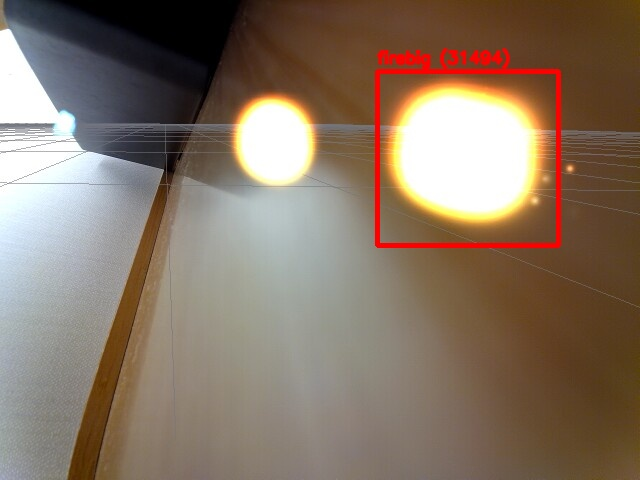firebig: (377, 71, 558, 245)
